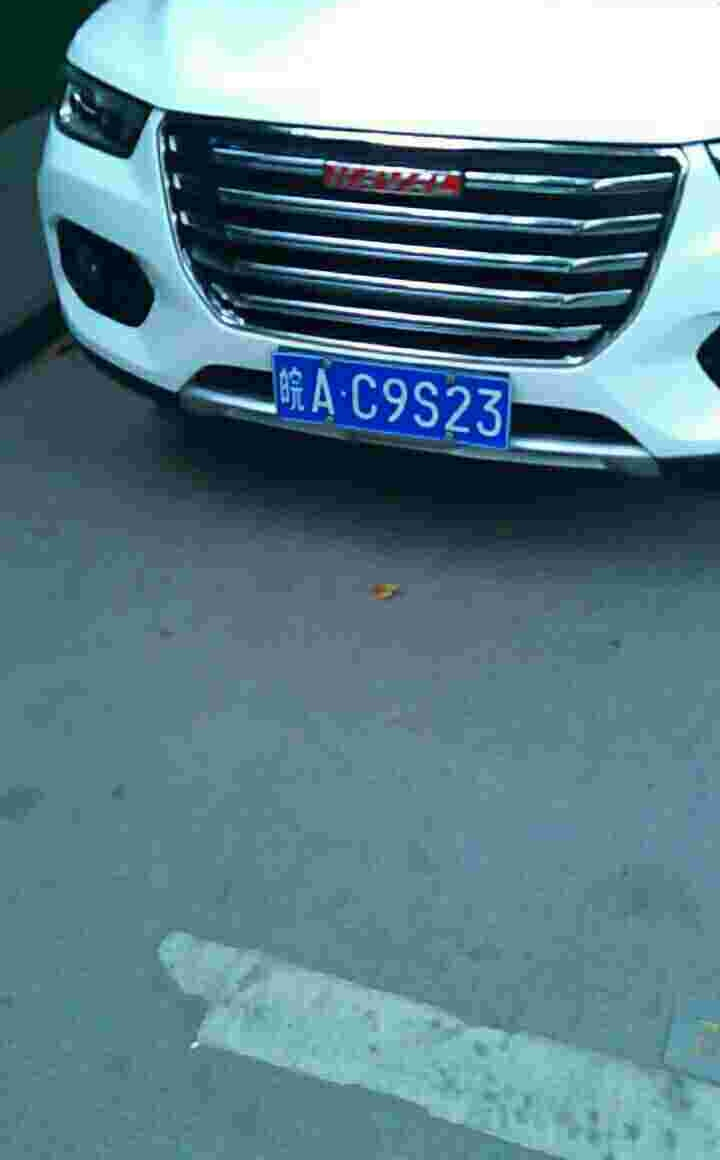license_plate: (266, 353, 527, 460)
